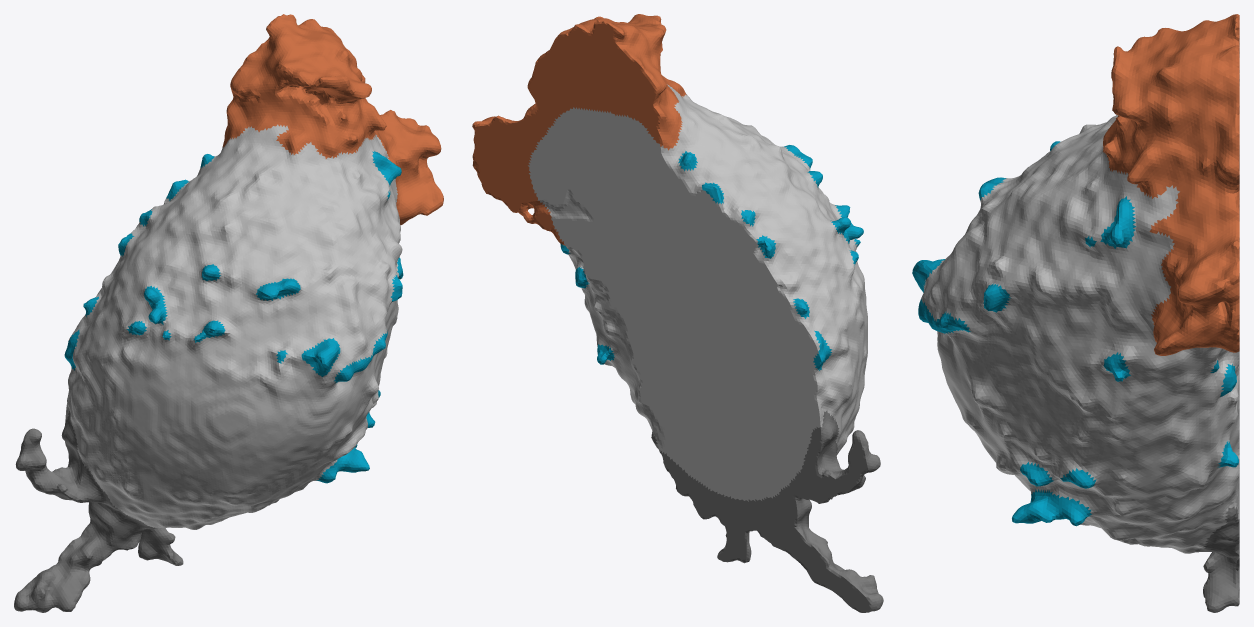
3 views of the same model, side by side, from view 1: azimuth 30°, elevation 25°; view 2: azimuth 150°, elevation 25°; view 3: azimuth 270°, elevation 25° (orthographic). The views are drawn at different scales.
Size of the model in its own units: 134 by 165 by 71.21.
